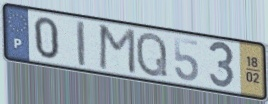0: (32, 16, 62, 61)
3: (207, 40, 237, 92)
5: (172, 35, 200, 83)
I: (75, 19, 88, 69)
M: (97, 23, 138, 77)
Q: (135, 30, 170, 79)
